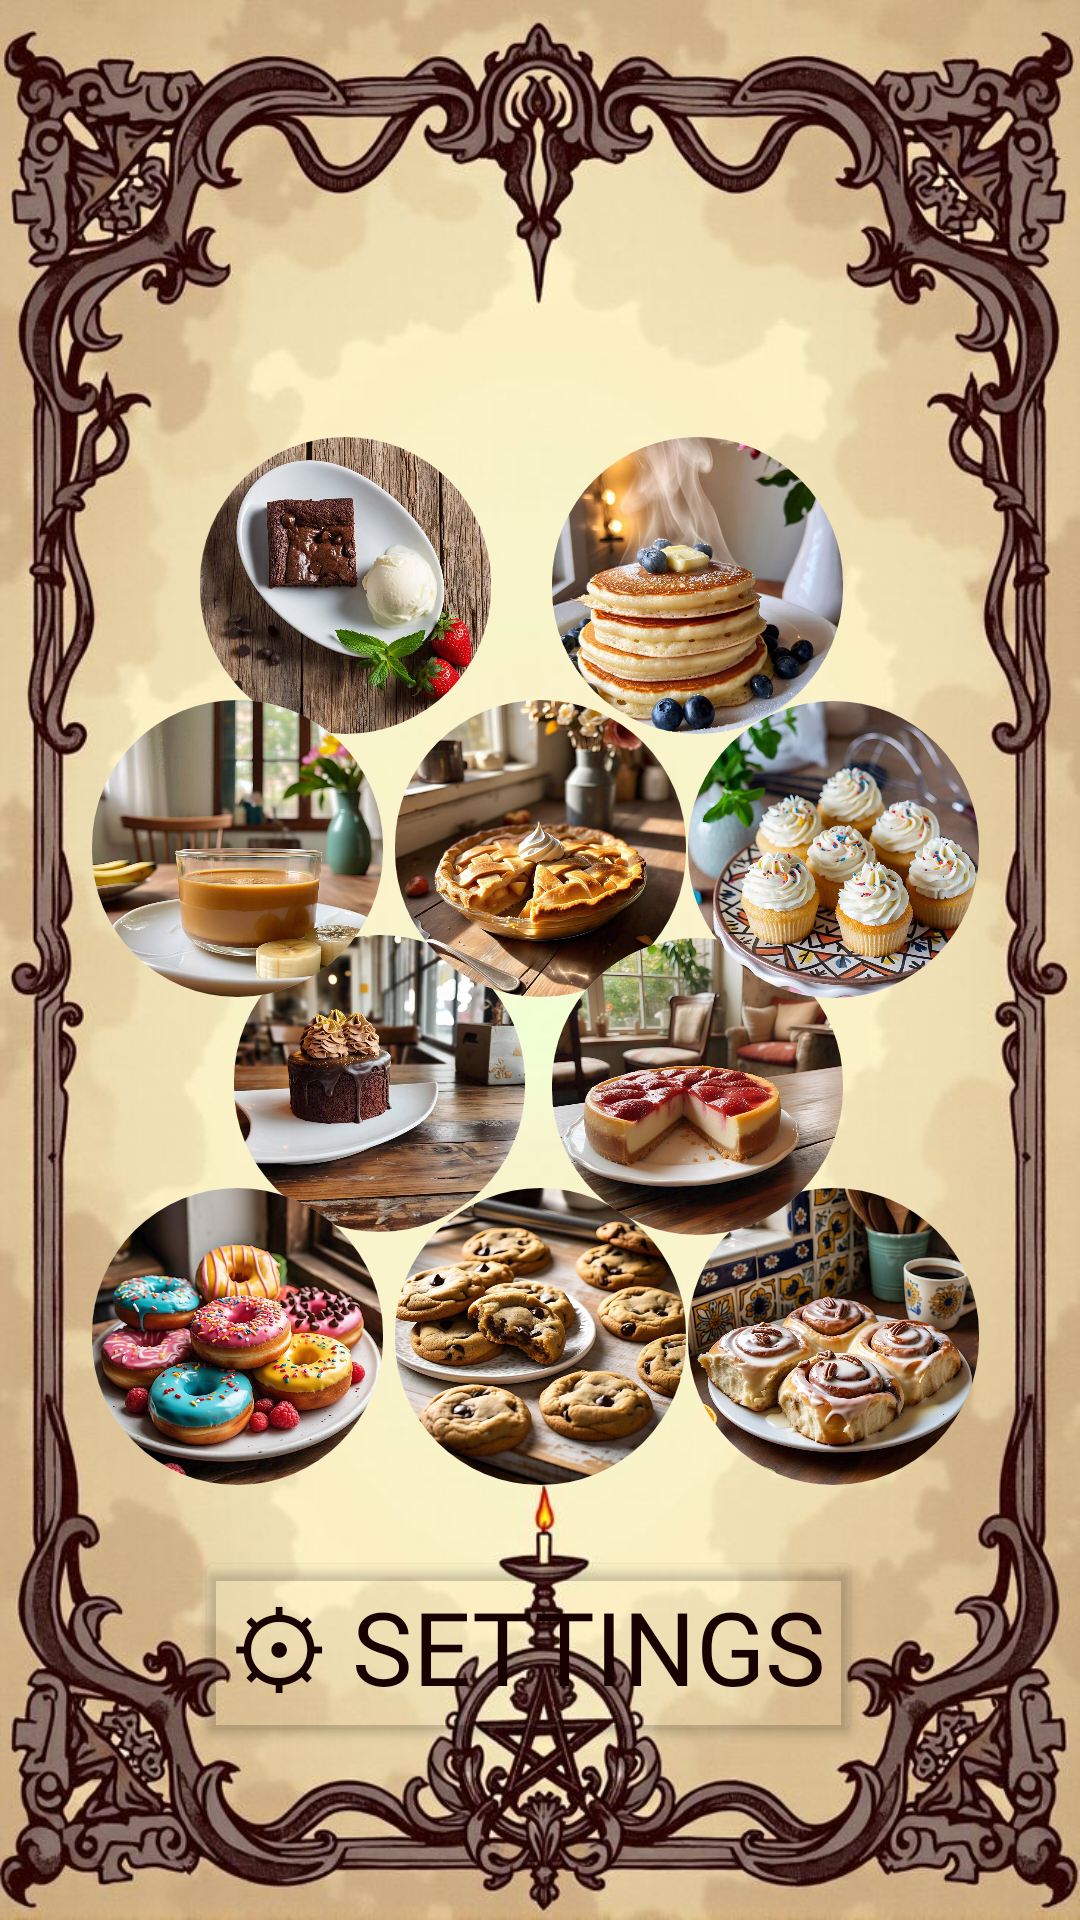

Icons on this 1080*1920 Android screen, each with the point to tap as (x=x, y=y):
brownie: (x=345, y=585)
cake: (x=379, y=1083)
cheesecake: (x=697, y=1086)
cinnamon: (x=833, y=1336)
cookies: (x=540, y=1336)
cupcake: (x=833, y=849)
donut: (x=237, y=1336)
pancake: (x=697, y=585)
pie: (x=540, y=848)
pudding: (x=237, y=848)
